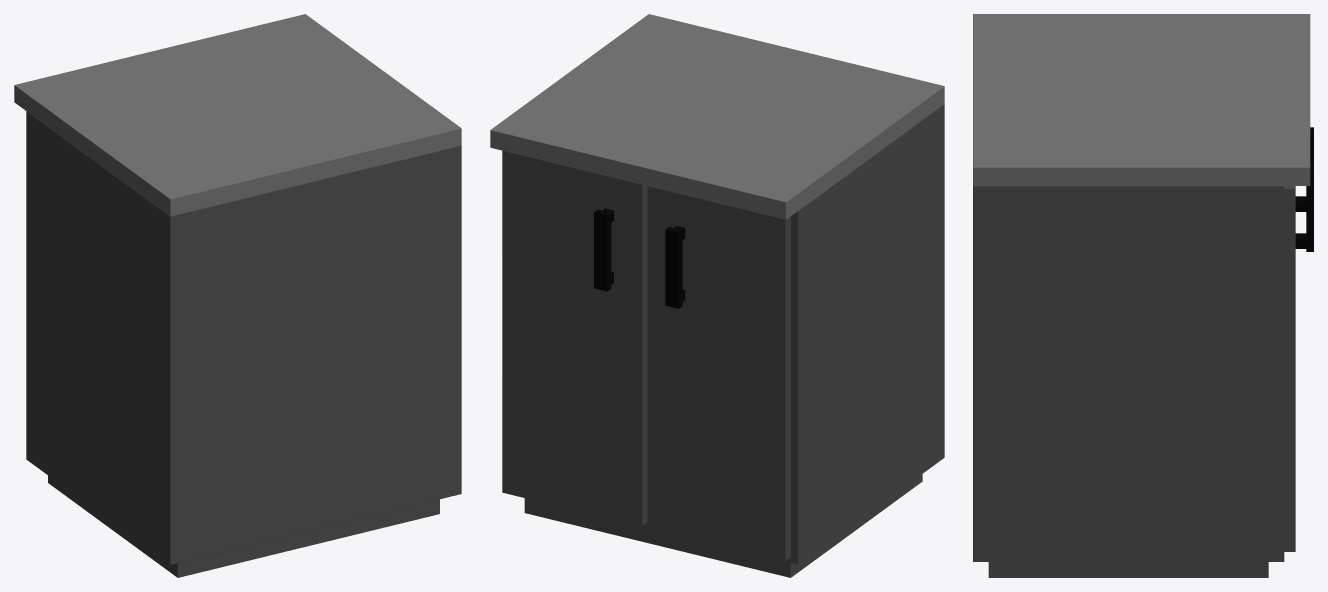
File: MuebleCocina.fbx
3 views of the same model, side by side, from view 1: azimuth 30°, elevation 25°; view 2: azimuth 150°, elevation 25°; view 3: azimuth 270°, elevation 25° (orthographic). The views are drawn at different scales.
Visible parts, largest first — view 1: Unit_1; view 2: Unit_1; view 3: Unit_1.
Part boxes in pixels (left/top/right/bottom): Unit_1: left=14, top=14, right=461, bottom=577; Unit_1: left=490, top=14, right=944, bottom=577; Unit_1: left=973, top=14, right=1313, bottom=577.
Bounding box in the file's own units: 70 × 88.99 × 65.72.
1 material, 1 textured.
